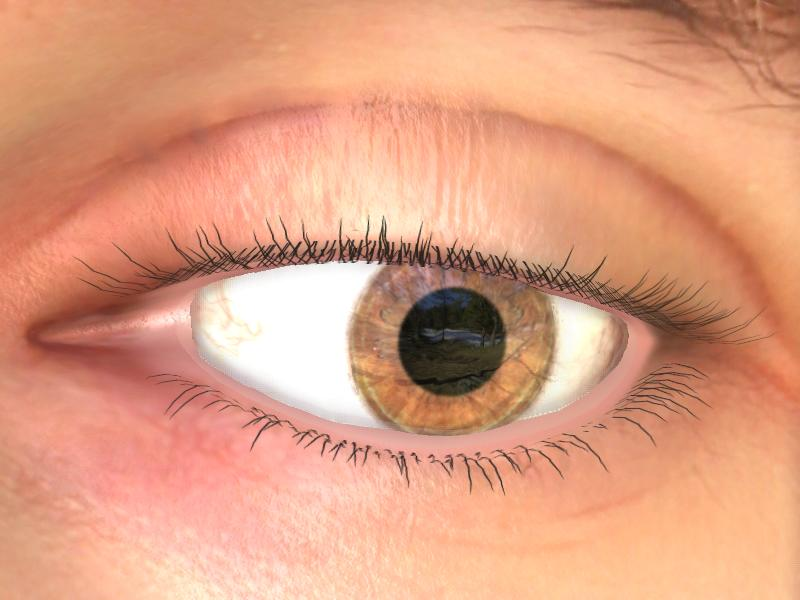eye: (349, 255, 559, 443)
